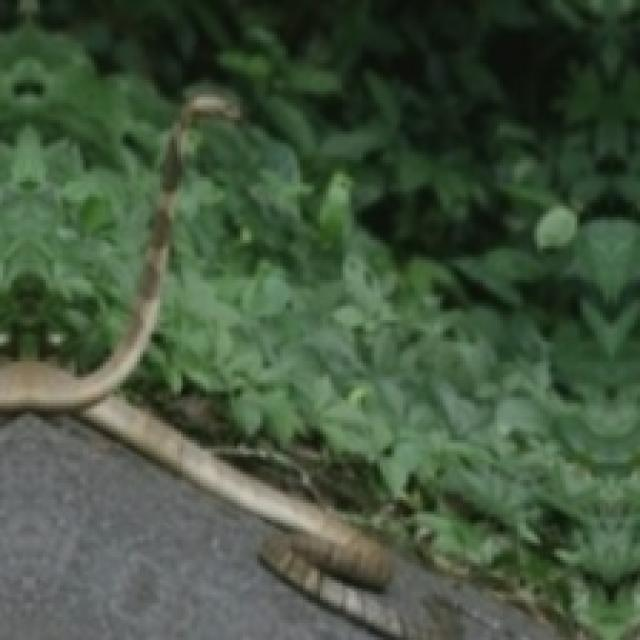king cobra: (0, 91, 457, 637)
